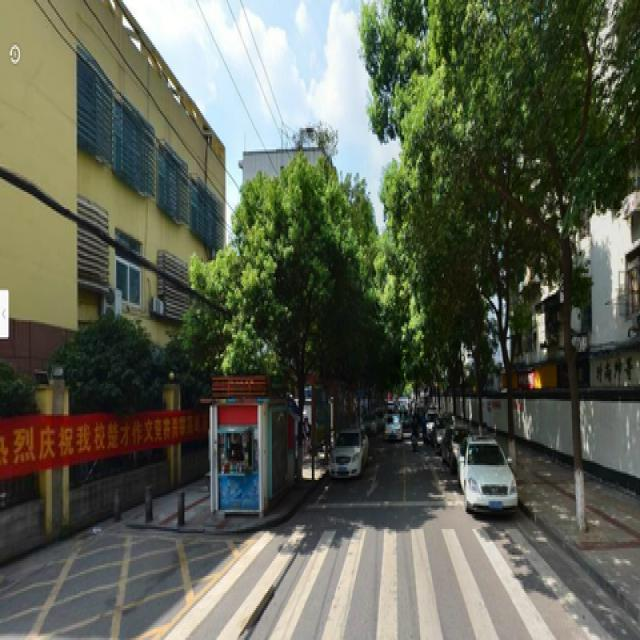cinn: (457, 4, 631, 563), (253, 175, 372, 514)
